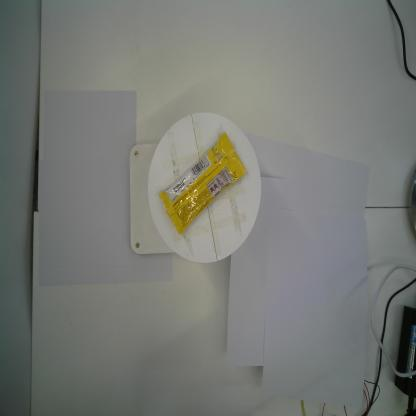Chocolate: (158, 132, 246, 235)
